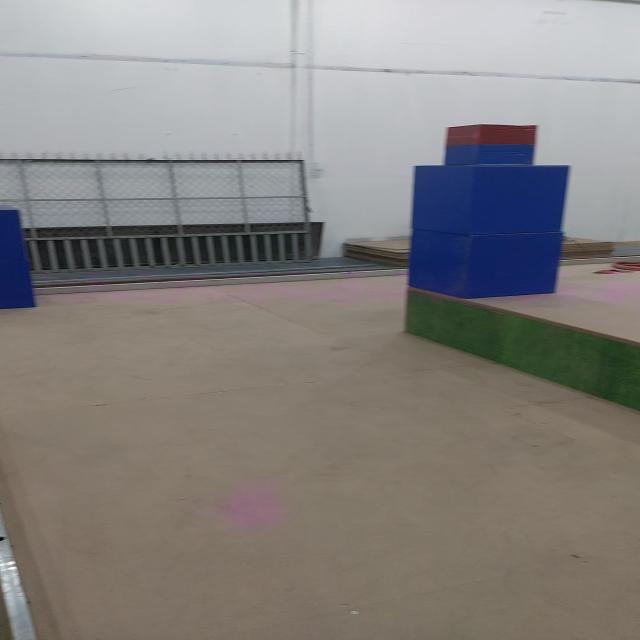earth_block: (407, 231, 564, 299), (414, 165, 571, 232)
sky_block: (442, 119, 543, 164)
